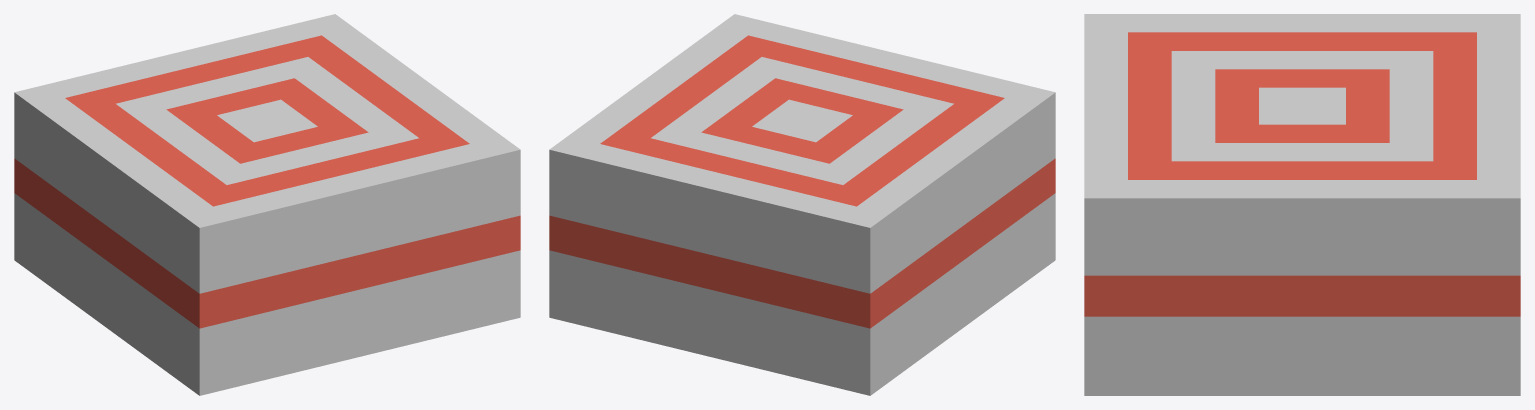
The model's file is x_hezi5.obj.
The picture shows the model from 3 angles, left to right: view 1: azimuth 30°, elevation 25°; view 2: azimuth 150°, elevation 25°; view 3: azimuth 270°, elevation 25°; orthographic projection. The views are drawn at different scales.
Parts seen in each view (by area): view 1: c_hezi4; view 2: c_hezi4; view 3: c_hezi4.
Part boxes in pixels (x1,y1,x2,y2): c_hezi4: (14, 14, 520, 395); c_hezi4: (549, 14, 1055, 395); c_hezi4: (1084, 14, 1520, 395).
Size of the model in its own units: 10 by 5 by 10.
